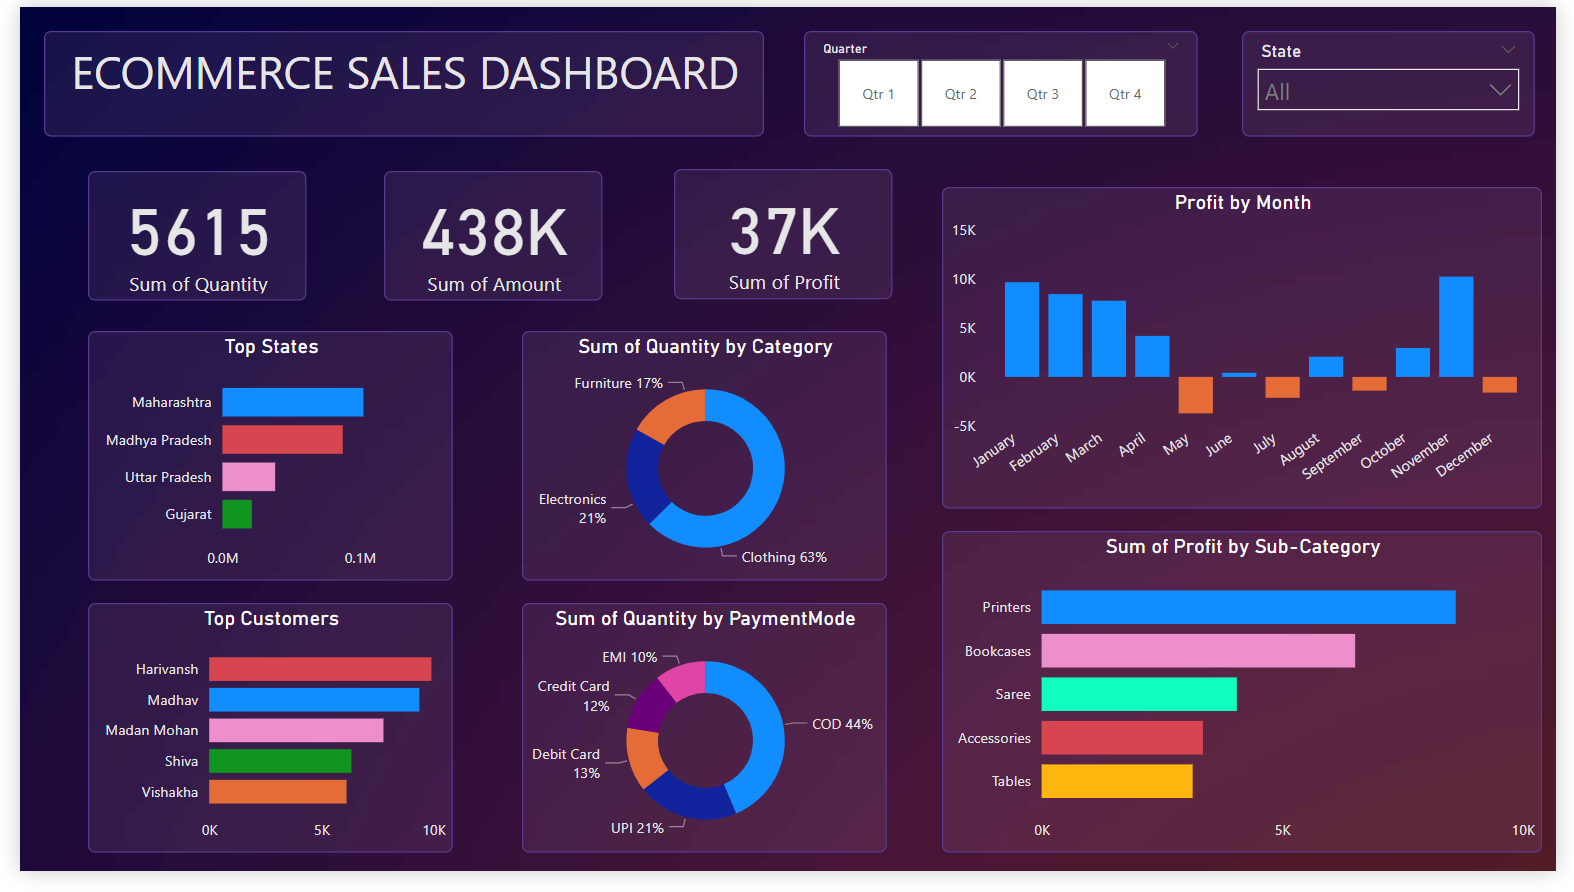

What the dashboard file says about the page in this screenshot:
{"tool":"powerbi","page":{"name":"Page 1","canvas":[1280,720],"ordinal":0},"visuals":[{"type":"textbox","box":[20,20,600,88],"z":0},{"type":"clusteredColumnChart","title":"Profit by Month ","fields":{"Category":["Orders.Order Date.Variation.Date Hierarchy.Month","Orders.Order Date.Variation.Date Hierarchy.Day"],"Y":["Details.Profit"]},"box":[768,150,500,268],"z":1000},{"type":"clusteredBarChart","fields":{"Category":["Details.Sub-Category"],"Y":["Details.Profit"]},"box":[768,436,500,268],"z":2000},{"type":"donutChart","fields":{"Y":["Details.Quantity"],"Category":["Details.Category"]},"box":[418,270,304,208],"z":3000},{"type":"donutChart","fields":{"Y":["Details.Quantity"],"Category":["Details.PaymentMode"]},"box":[418,496,304,208],"z":4000},{"type":"card","fields":{"Values":["Details.Amount"]},"box":[304,136,182,108],"z":5000},{"type":"card","fields":{"Values":["Details.Quantity"]},"box":[56,136,182,108],"z":6000},{"type":"card","fields":{"Values":["Details.Profit"]},"box":[545,135,182,108.3],"z":7000},{"type":"clusteredBarChart","title":"Top States","fields":{"Category":["Orders.State"],"Y":["Details.Amount"]},"box":[56,270,304,208],"z":8000},{"type":"barChart","title":"Top Customers","fields":{"Category":["Orders.CustomerName"],"Y":["Details.Amount"]},"box":[56,496,304,208],"z":9000},{"type":"slicer","fields":{"Values":["Orders.Order Date.Variation.Date Hierarchy.Quarter"]},"box":[654,20,328,88],"z":9001},{"type":"slicer","fields":{"Values":["Orders.State"]},"box":[1018,20,244,88],"z":9002}]}

Visuals, with their boxes in screenshot pixels (x1, y1, x2, y2), scaled from the page's 1280x720 canvas onto the 1574x892 screenshot:
textbox: 25/25/762/134
"Profit by Month " clusteredColumnChart: 944/186/1559/518
clusteredBarChart - Details.Sub-Category x Details.Profit: 944/540/1559/872
donutChart - Details.Quantity x Details.Category: 514/334/888/592
donutChart - Details.Quantity x Details.PaymentMode: 514/614/888/872
card - Details.Amount: 374/168/598/302
card - Details.Quantity: 69/168/293/302
card - Details.Profit: 670/167/894/301
"Top States" clusteredBarChart: 69/334/443/592
"Top Customers" barChart: 69/614/443/872
slicer - Orders.Order Date.Variation.Date Hierarchy.Quarter: 804/25/1208/134
slicer - Orders.State: 1252/25/1552/134
